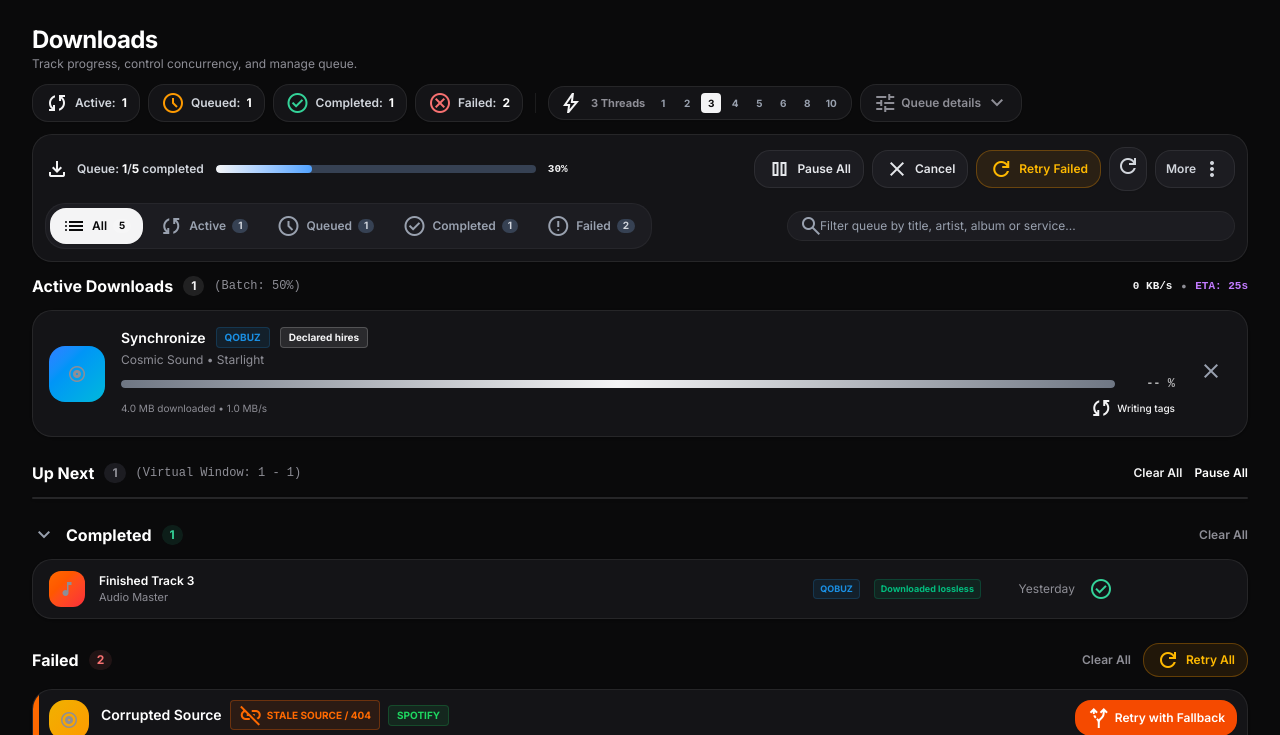
Scenario: DownloadsView — Clear All on Failed (WF-DL-01) › clears only failed items: queued, downloading and completed stay untouched
Click the 3rd button "Clear All" at (1106, 660), box [1082, 652, 1131, 668]
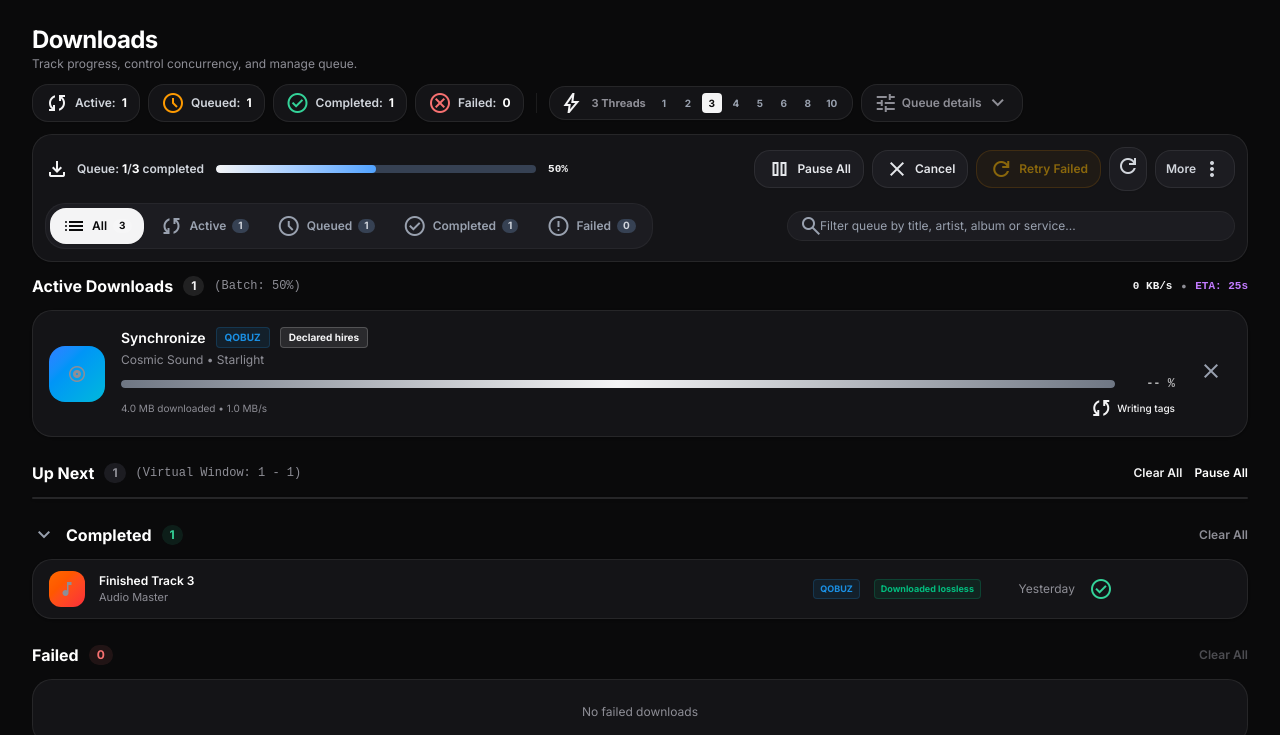
Expected: the text "Finished Track 3" is shown, [99, 573, 194, 588]
Result: the heading with class "failed-section" no longer shows "Corrupted Source"
Result: the element with class "failed-section" shows "No failed downloads" at [582, 704, 698, 719]
